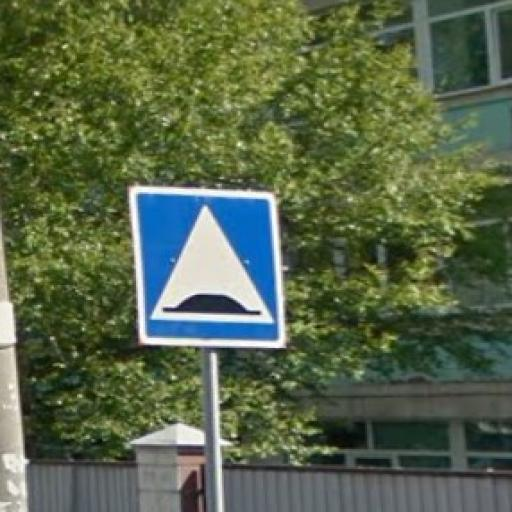traffic_sign: (130, 187, 287, 352)
